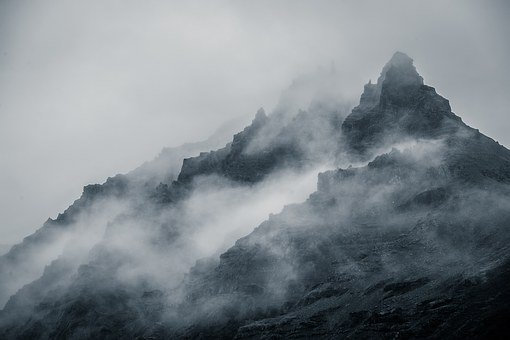mountain: (40, 66, 506, 340)
